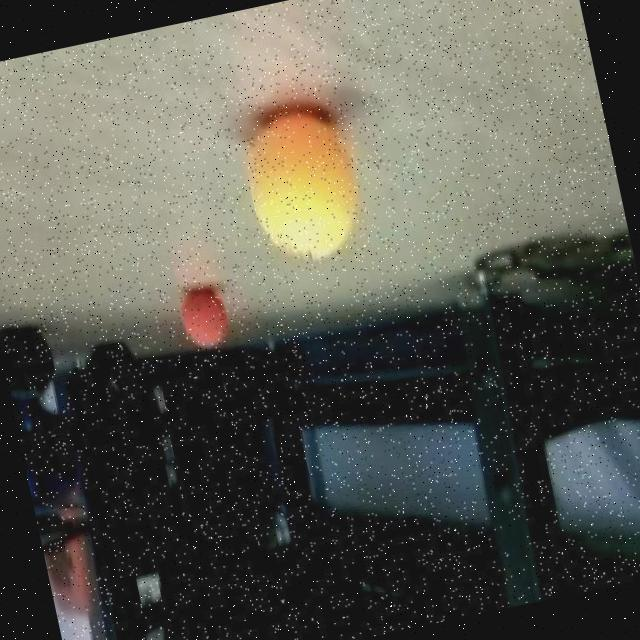ping-pong-ball: (222, 86, 382, 276), (167, 276, 238, 362)
